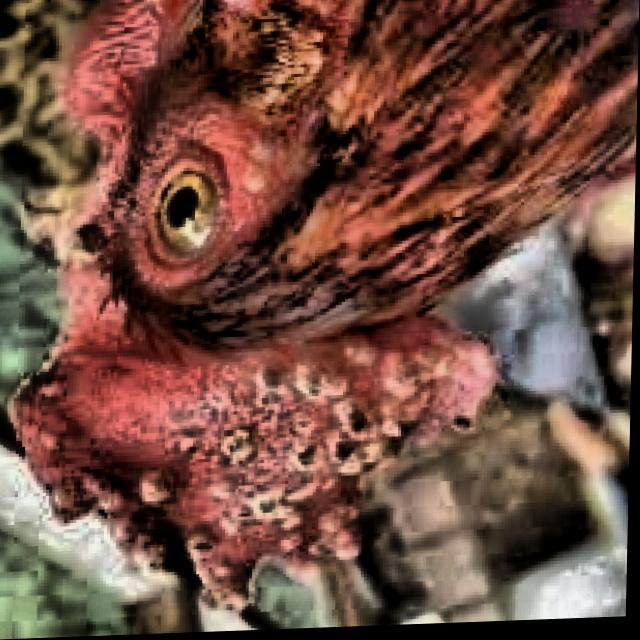Fowlpox: (7, 263, 525, 611)
